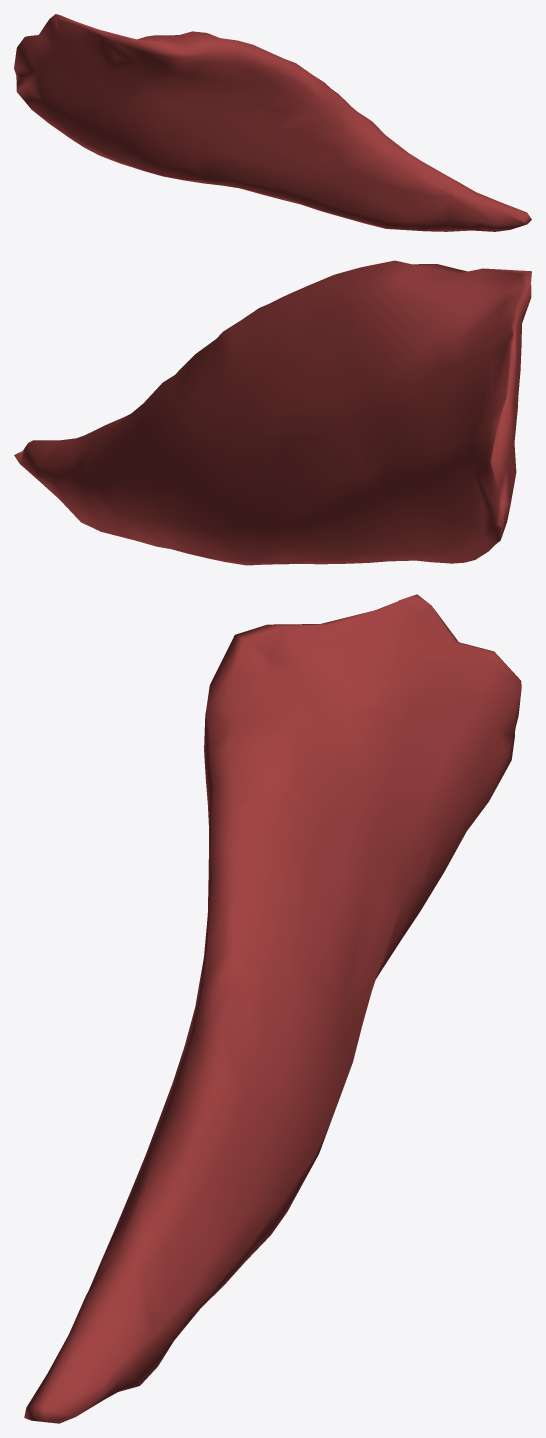
Rendered from piriformis-fascia-l.glb.
3 renders of one model, top to bottom at view 1: azimuth 30°, elevation 25°; view 2: azimuth 150°, elevation 25°; view 3: azimuth 270°, elevation 25°, orthographic. The views are drawn at different scales.
Visible parts, largest first — view 1: Piriformis fascia.l; view 2: Piriformis fascia.l; view 3: Piriformis fascia.l.
Part boxes in pixels (bbox=[...]): Piriformis fascia.l: bbox=[14, 14, 531, 231]; Piriformis fascia.l: bbox=[14, 260, 531, 565]; Piriformis fascia.l: bbox=[24, 594, 521, 1423].
Bounding box in the file's own units: 0.1107 × 0.064 × 0.0598.
